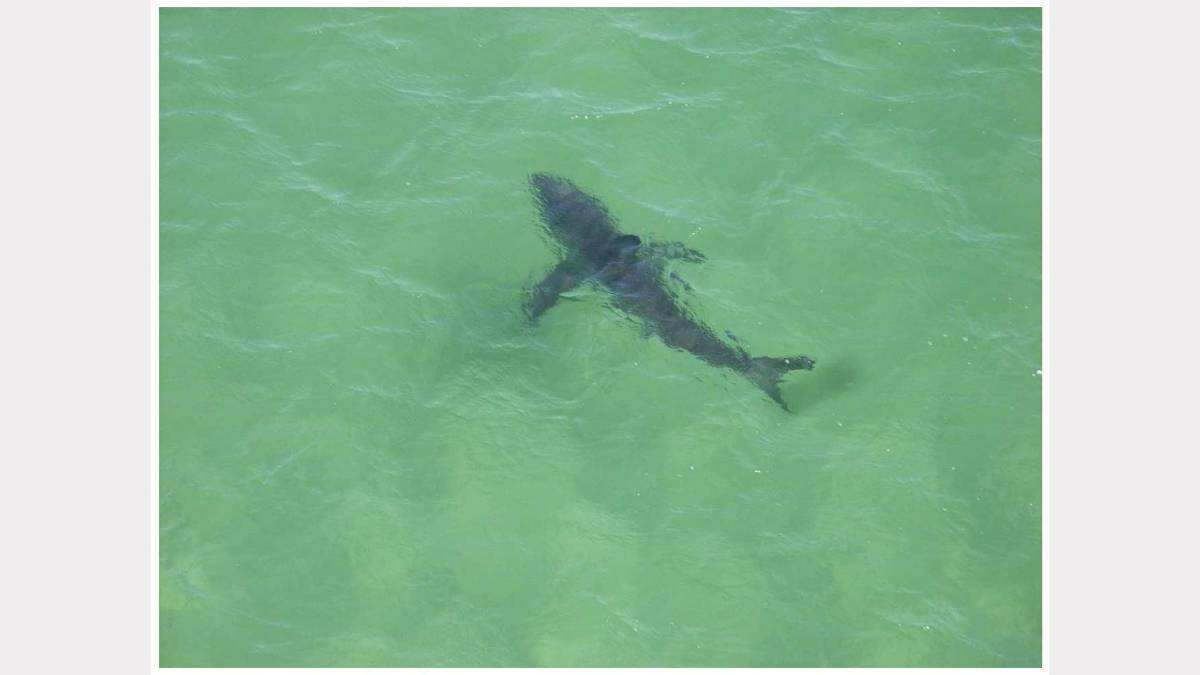shark: (503, 161, 823, 422)
